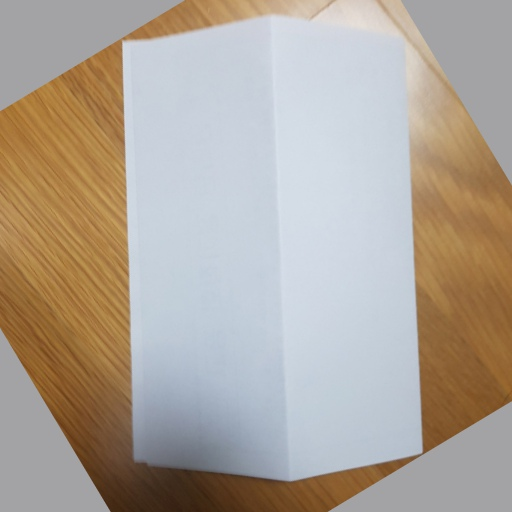Paper_3: (114, 10, 433, 489)
